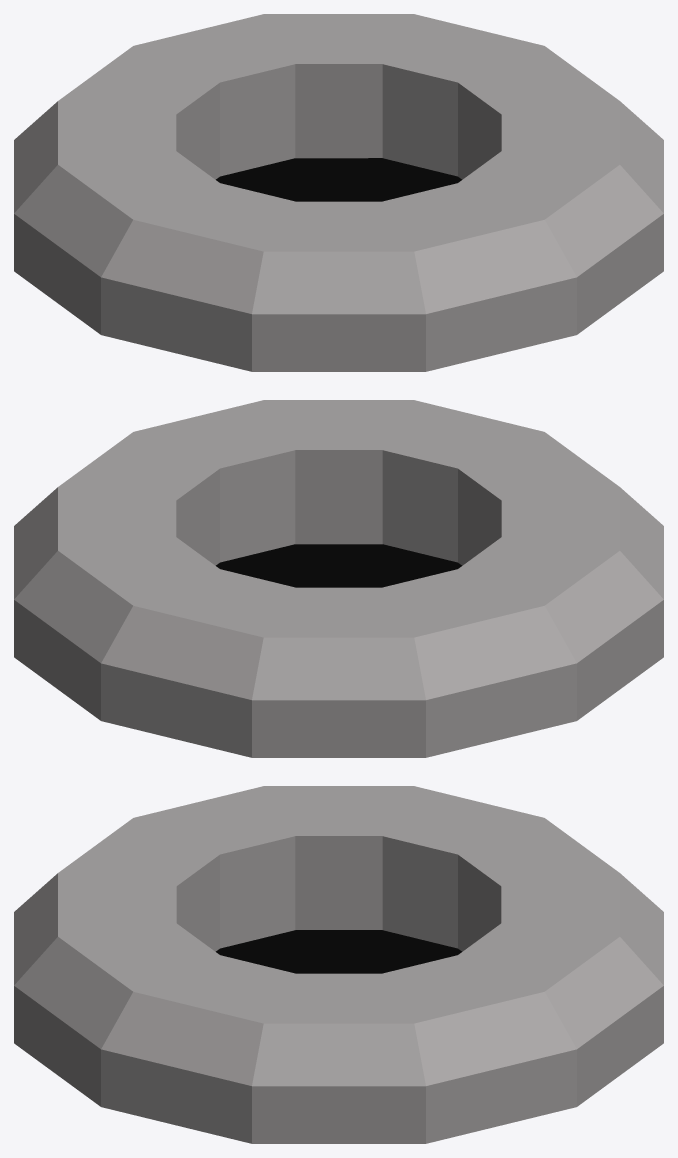
Rendered from SingleSpikeMetalTrap_3.fbx.
3 views of the same model, one above another, from view 1: azimuth 30°, elevation 25°; view 2: azimuth 150°, elevation 25°; view 3: azimuth 270°, elevation 25° (orthographic).
Parts seen in each view (by area): view 1: SingleSpikeMetalTrap_3; view 2: SingleSpikeMetalTrap_3; view 3: SingleSpikeMetalTrap_3.
Boxes of the visible parts, left/top/right/bottom form: SingleSpikeMetalTrap_3: left=14, top=14, right=663, bottom=371; SingleSpikeMetalTrap_3: left=14, top=400, right=663, bottom=757; SingleSpikeMetalTrap_3: left=14, top=786, right=663, bottom=1143.
Size of the model in its own units: 18.4 by 3.18 by 18.4.
